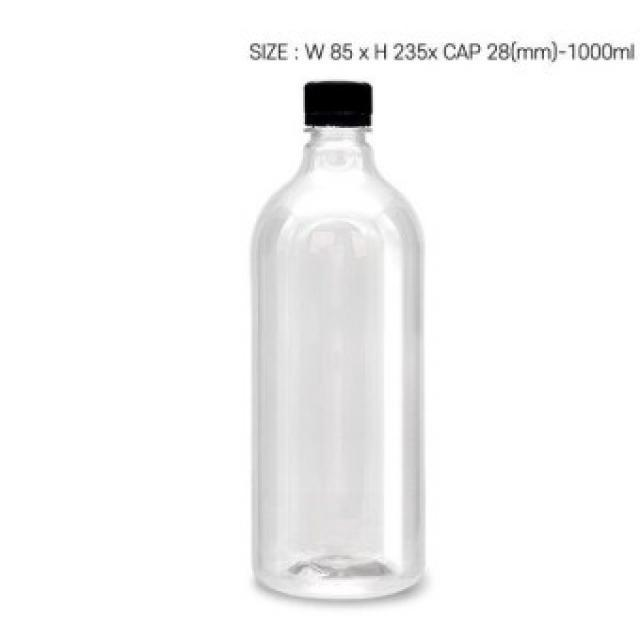plastic bottle: (250, 82, 428, 602)
